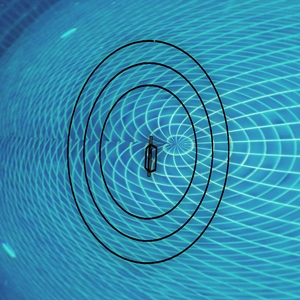circle: (60, 32, 252, 274)
submarine: (143, 141, 158, 172)
